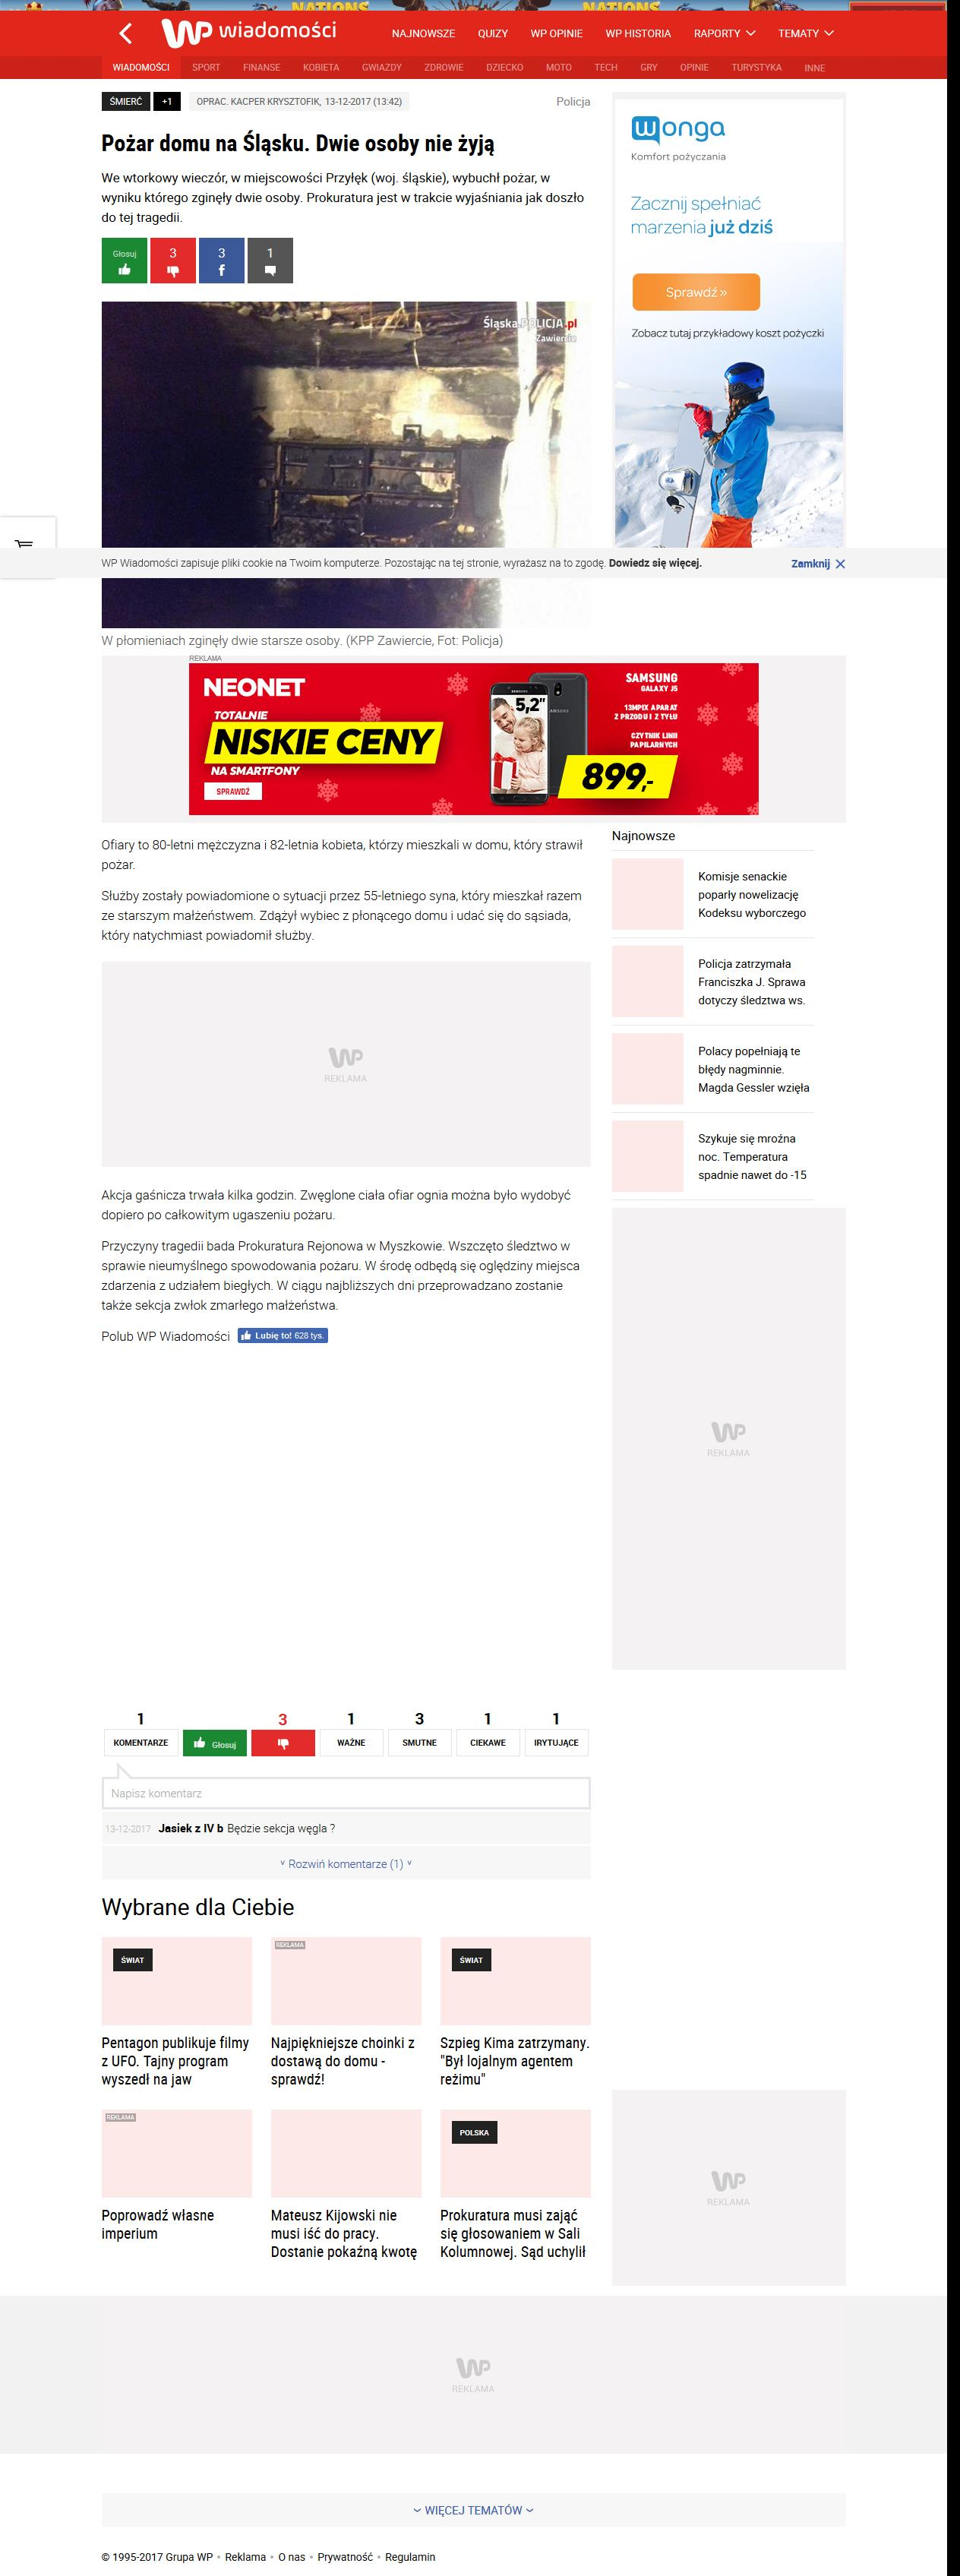title: (100, 131, 498, 156)
